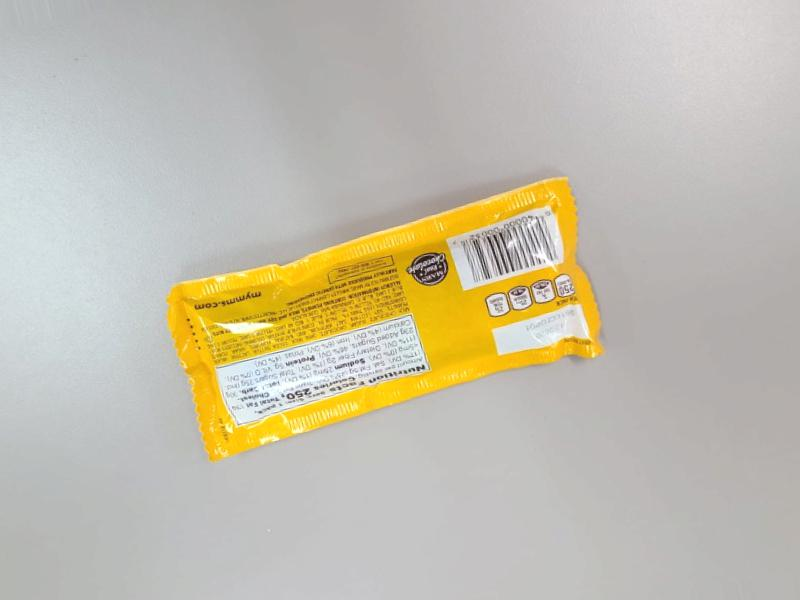m&m: (177, 184, 594, 485)
